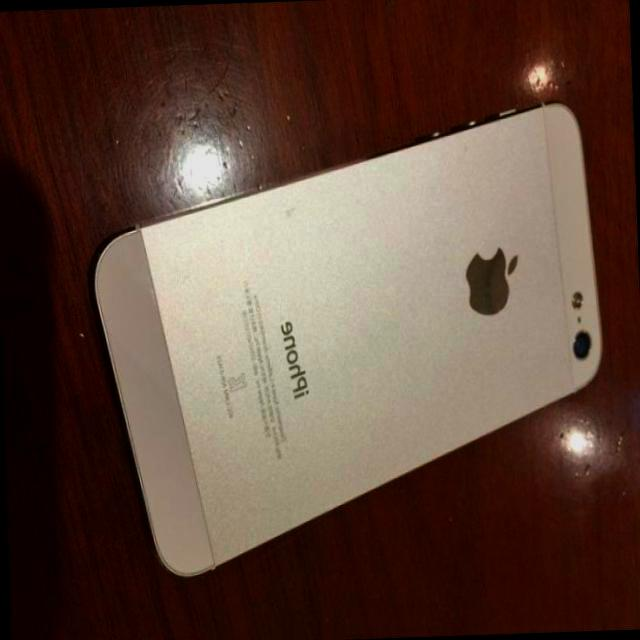lens: (568, 328, 596, 361)
phone: (86, 93, 613, 580)
